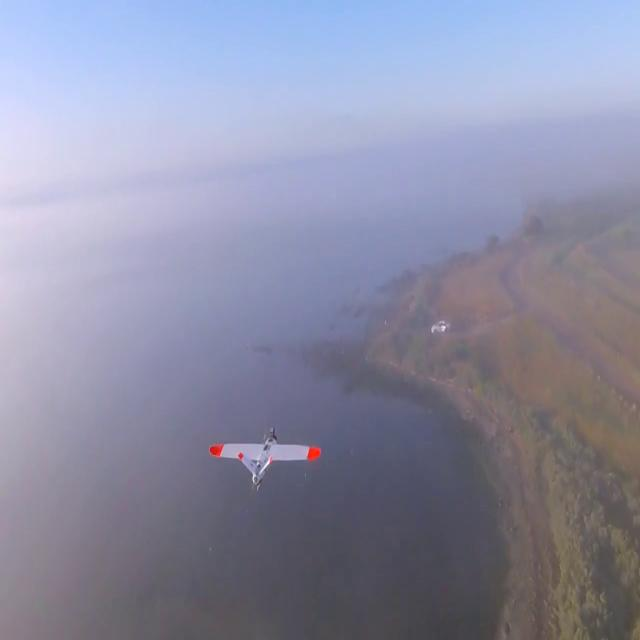iha: (234, 422, 285, 484)
